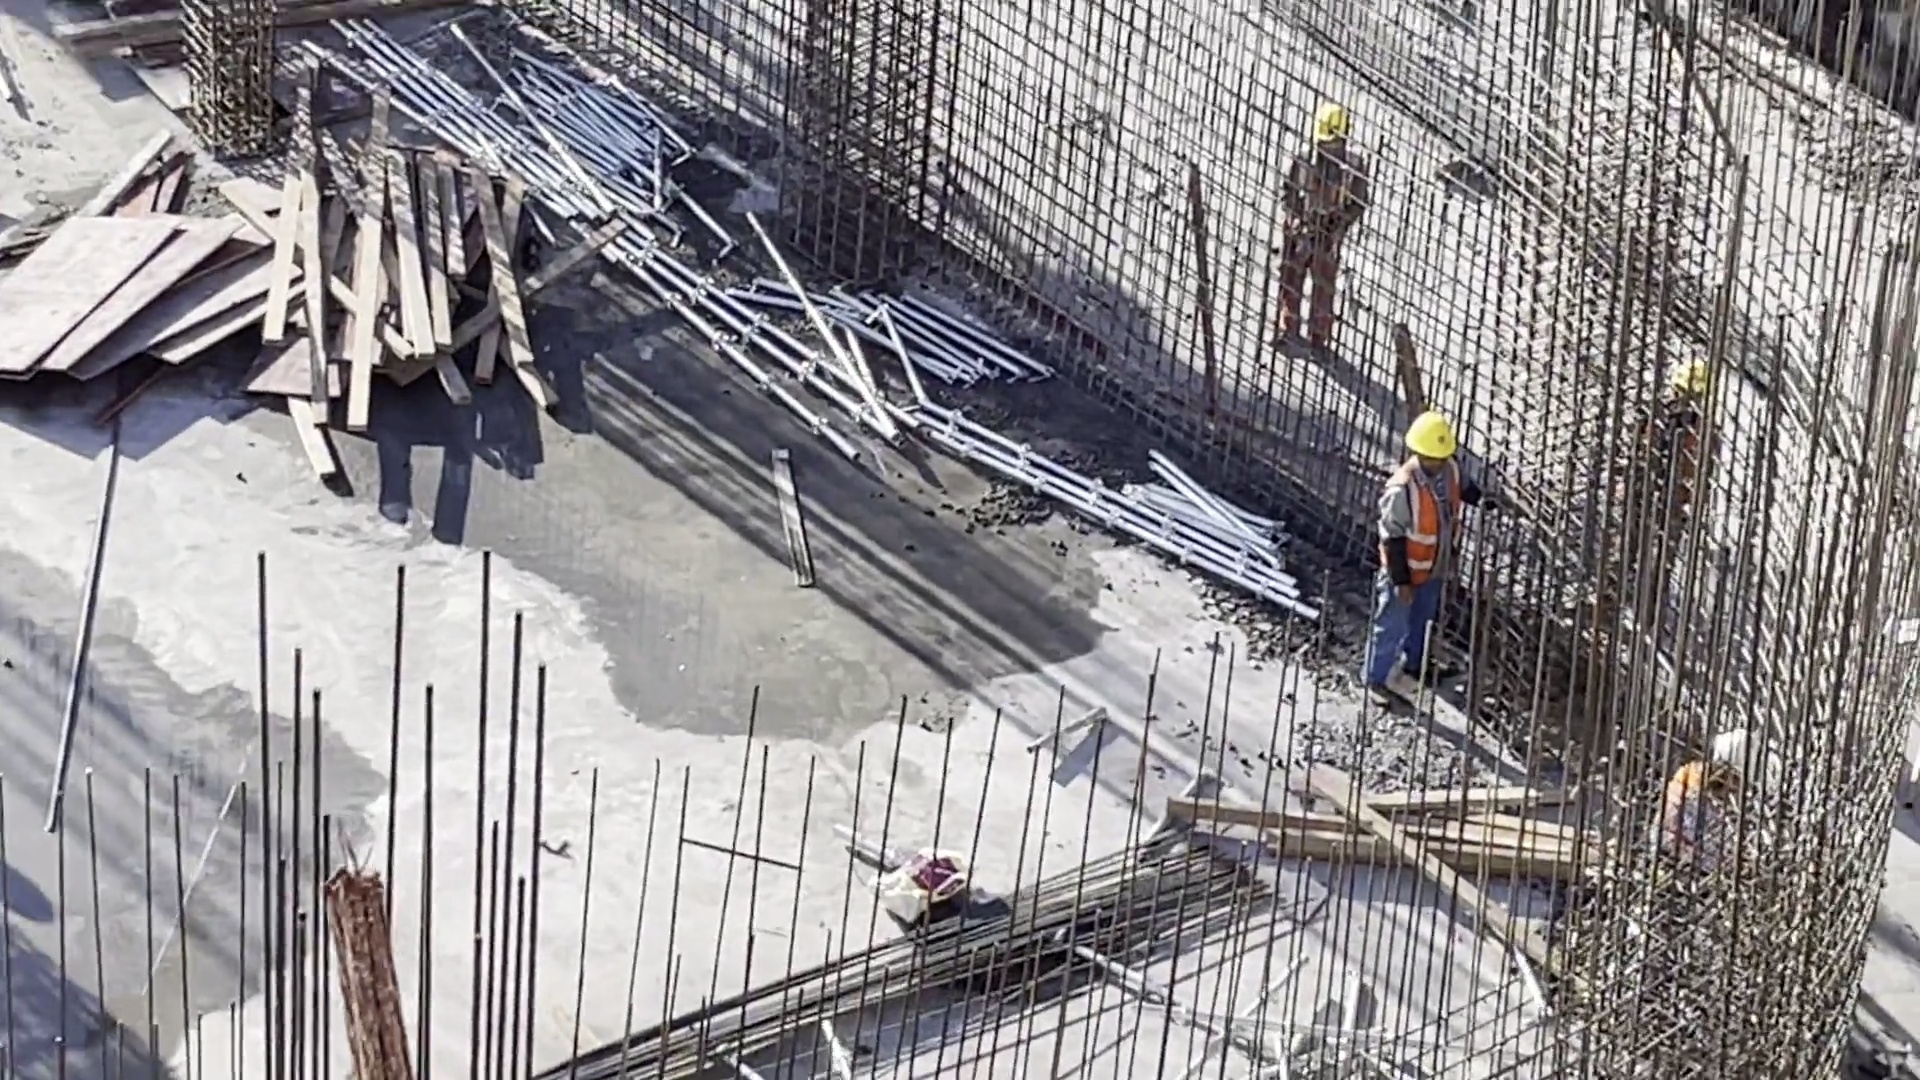board: (6, 194, 258, 368)
helmet: (1712, 730, 1777, 778), (1407, 412, 1460, 468), (1660, 361, 1722, 404), (1304, 108, 1362, 148)
person: (1344, 406, 1491, 709), (1273, 91, 1378, 380), (1655, 731, 1785, 882), (1643, 360, 1728, 591)
rebar: (586, 836, 1261, 1080)
scaffold: (1104, 460, 1313, 632), (807, 257, 1030, 417), (514, 50, 699, 192)
vest: (1389, 467, 1466, 592), (1632, 408, 1717, 513), (1664, 757, 1734, 850), (1293, 144, 1360, 234)
wood: (271, 123, 521, 443)
